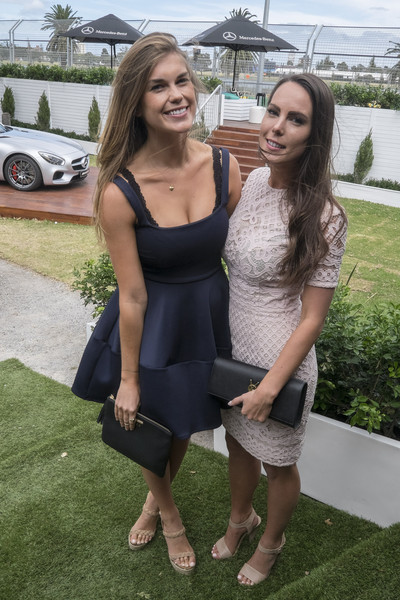Person: (70, 31, 244, 576), (223, 71, 343, 587)
